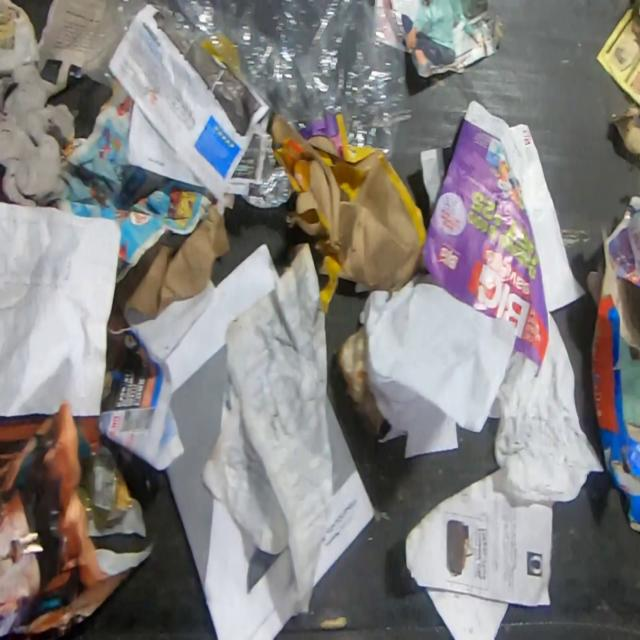cardboard: (584, 194, 640, 533), (119, 201, 231, 319), (609, 101, 639, 160)
soft_plastic: (147, 0, 413, 163), (82, 0, 146, 89), (243, 129, 290, 209)
